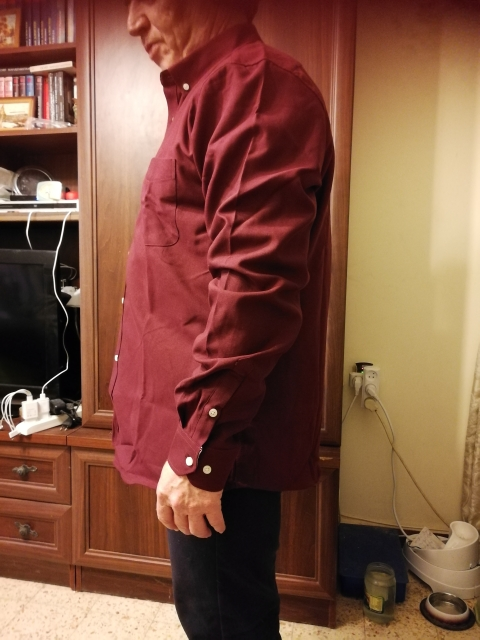shirts: (102, 30, 340, 493)
